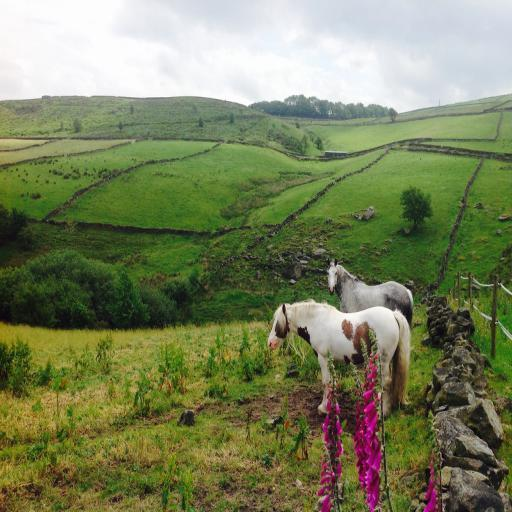horse: (263, 300, 411, 422), (326, 259, 414, 323)
